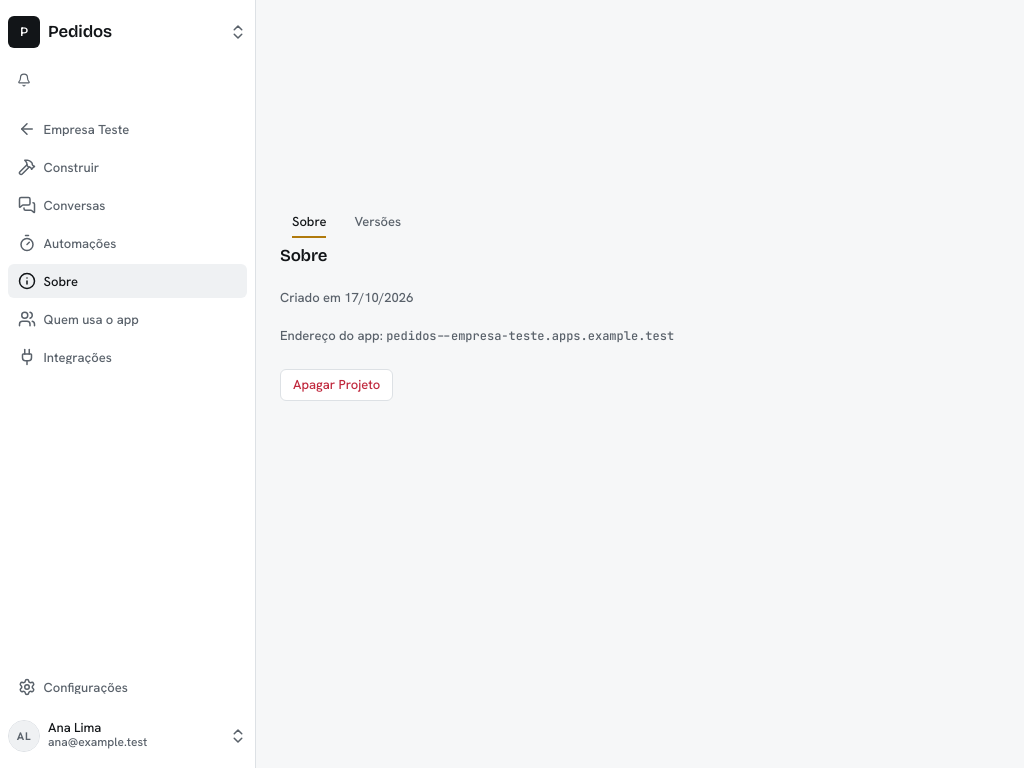
Test: um nome diferente não confirma, nem com Enter
The image size is (1024, 768).
(page scrolled)
Click the button "Apagar Projeto".
click(337, 385)  # box [280,369,393,401]
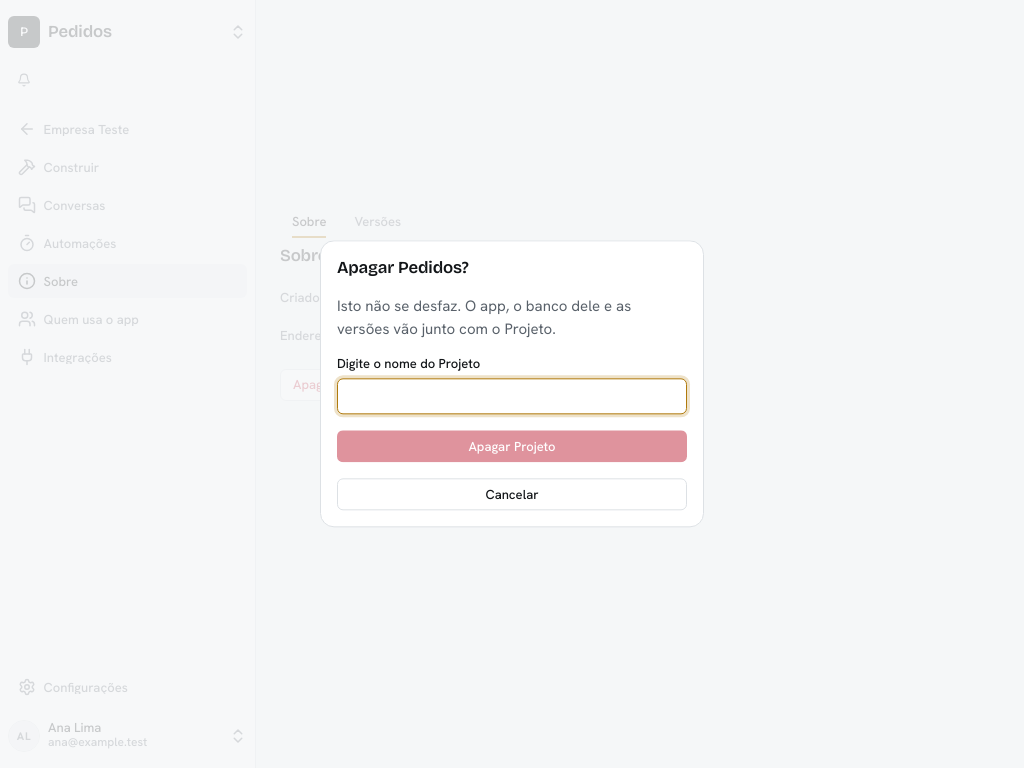
expect the dialog is shown: met, box [320,240,704,528]
Type "pedidos" into the field labelled "Digite o nome do Projeto".
click(512, 397); type("pedidos")  # box [337,379,687,415]
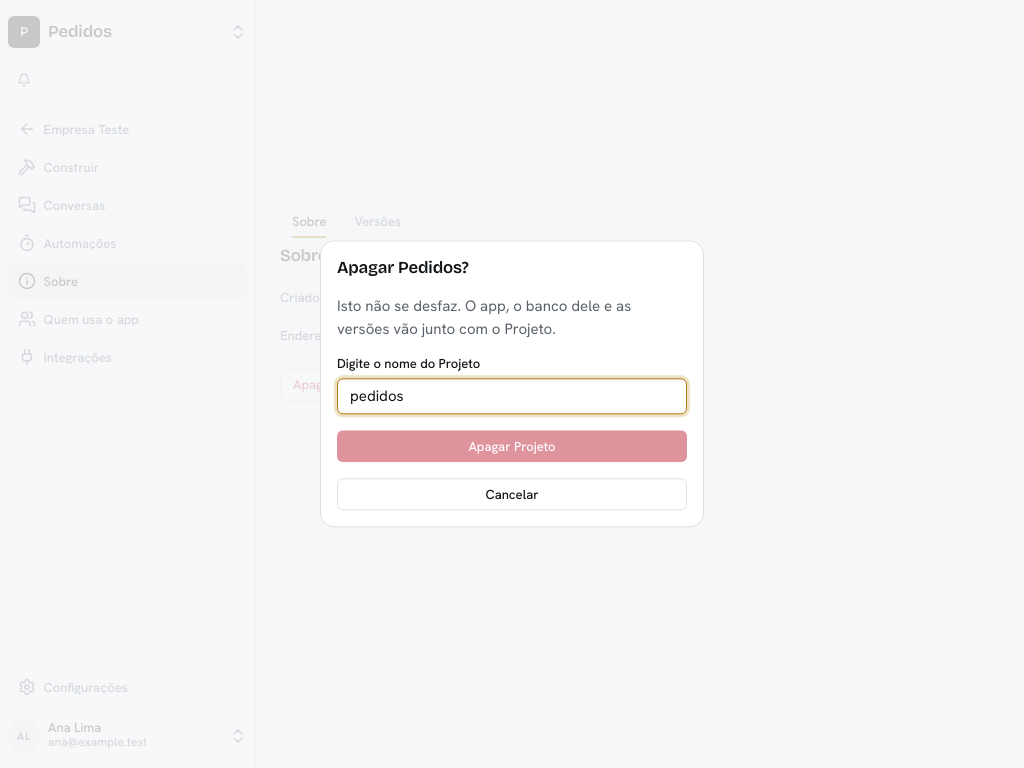
expect the button "Apagar Projeto" is disabled: met, box [337,431,687,463]
Submit the form labelled "Digite o nome do Projeto", box [337,358,687,511]
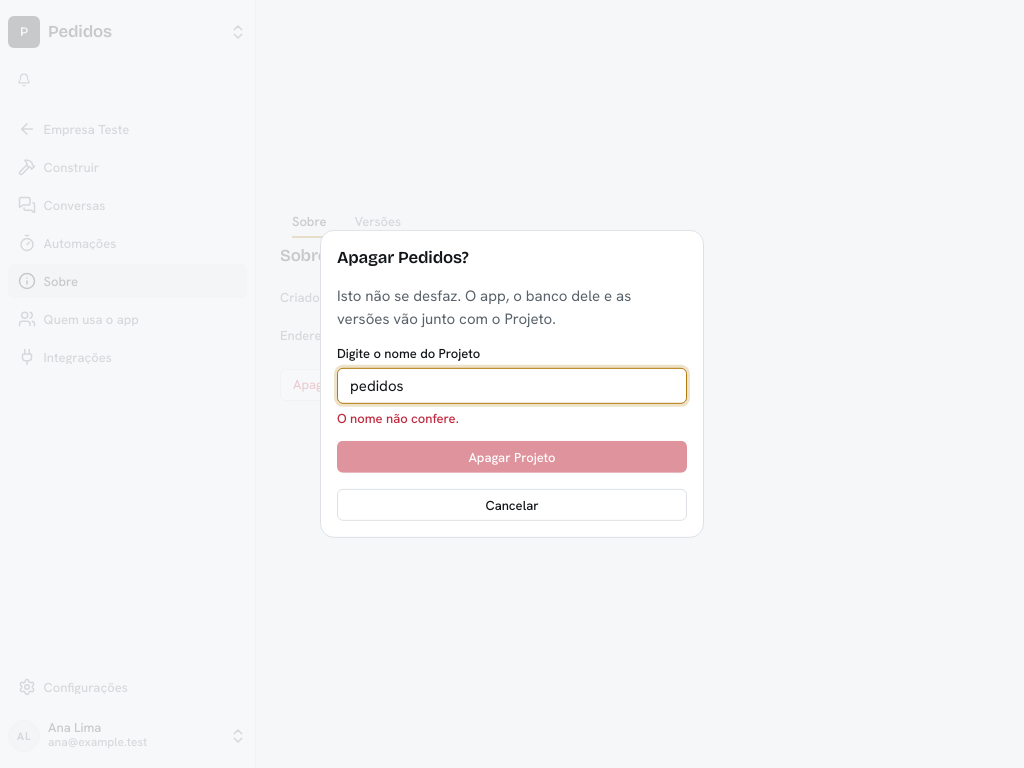
expect the text "O nome não confere." is shown: met, box [337,410,459,427]
